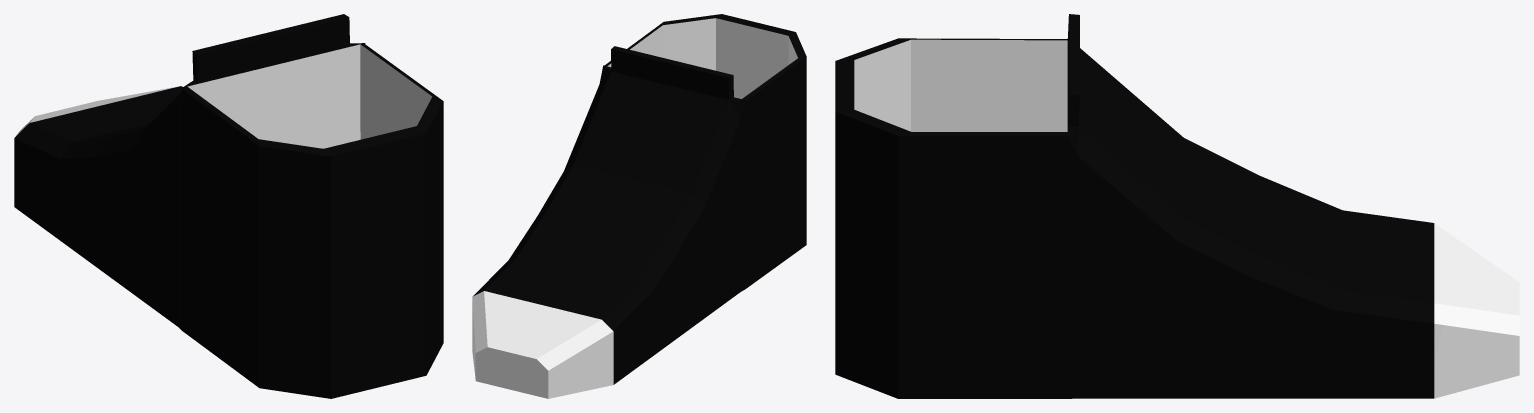
File: Shoe.fbx
3 renders of one model, left to right at view 1: azimuth 30°, elevation 25°; view 2: azimuth 150°, elevation 25°; view 3: azimuth 270°, elevation 25°, orthographic. The views are drawn at different scales.
Visible parts, largest first — view 1: Cube; view 2: Cube; view 3: Cube.
Boxes of the visible parts, <box> form: Cube: <box>14,14,443,398</box>; Cube: <box>472,14,806,398</box>; Cube: <box>835,14,1519,398</box>.
Bounding box in the file's own units: 202 × 286 × 600.
